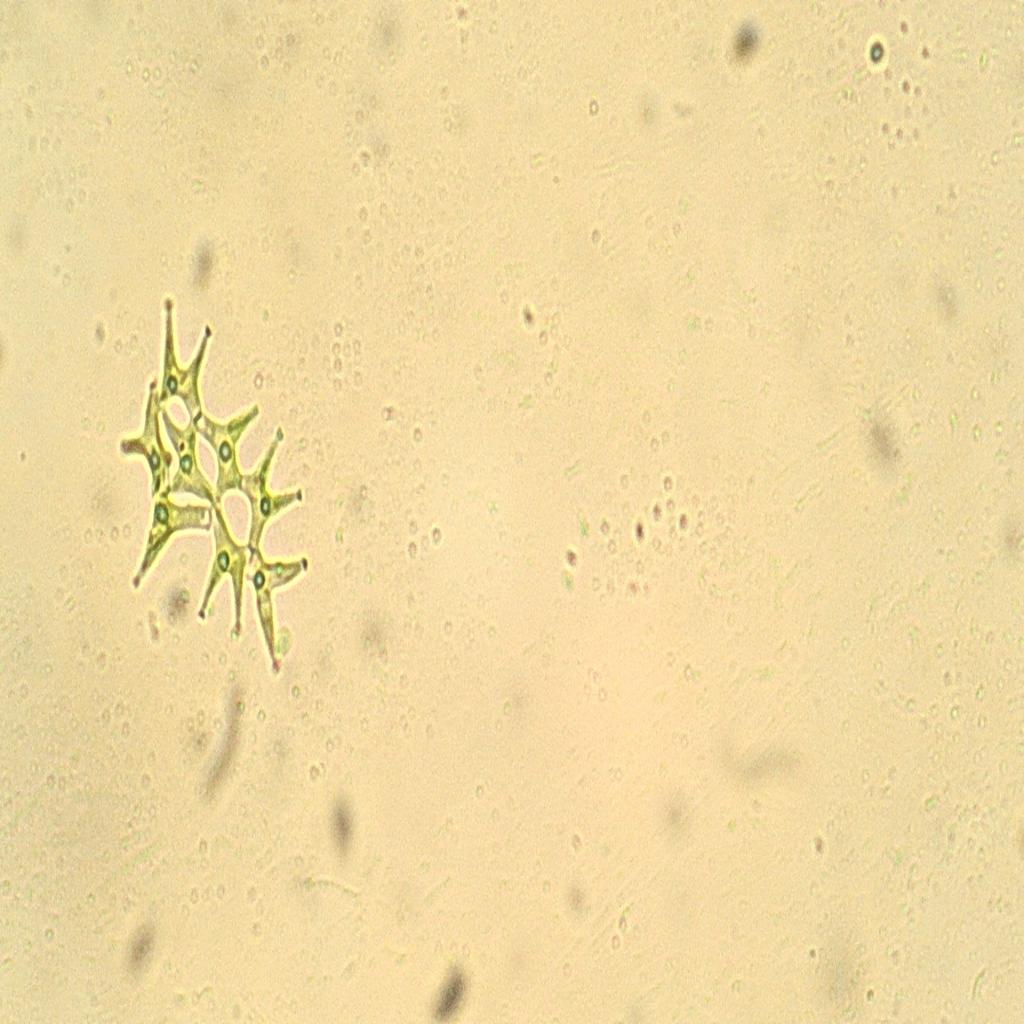Pediastrum_CFI: (108, 284, 314, 693)
